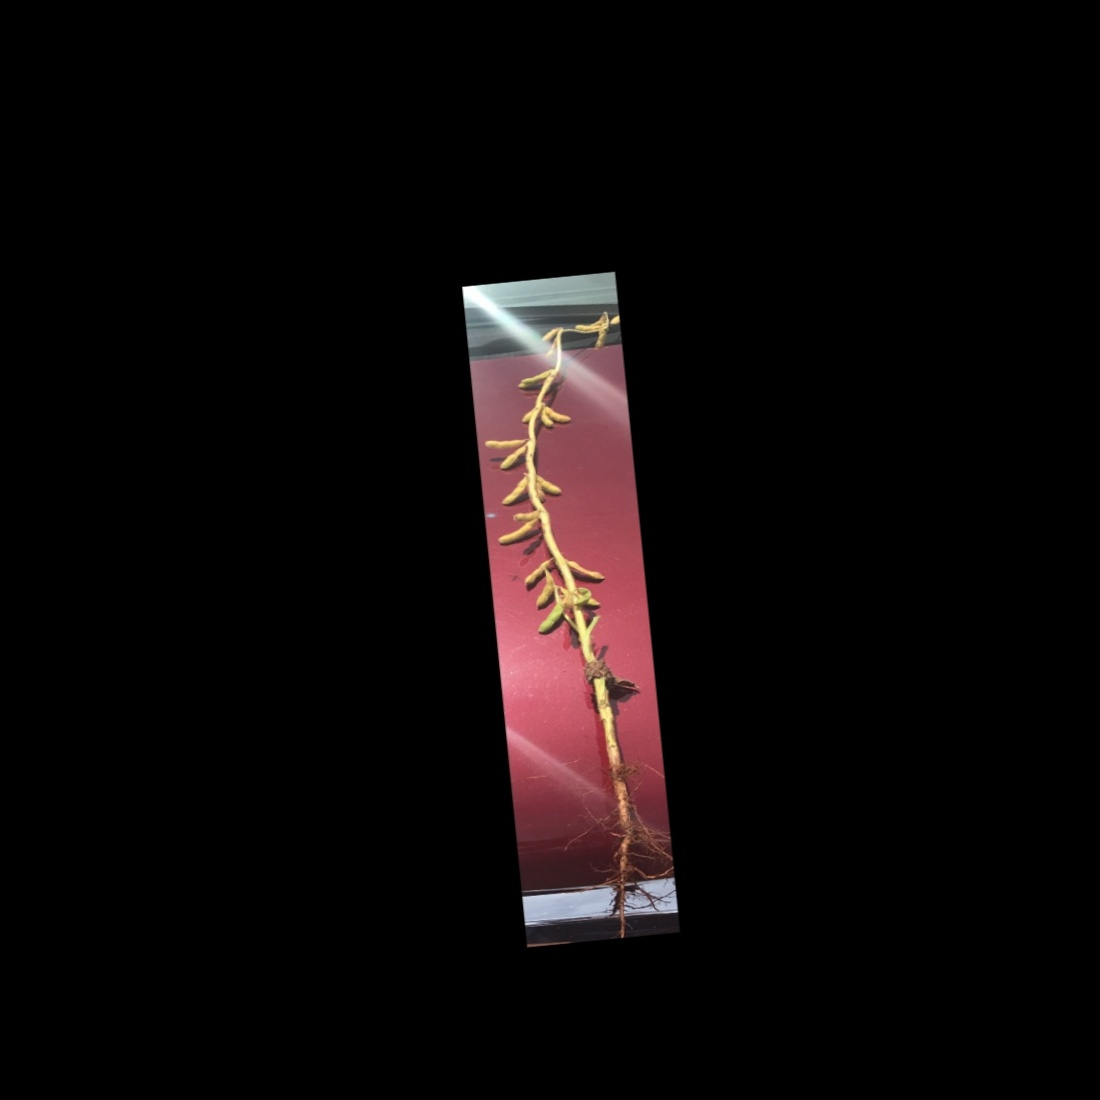pod: (492, 519, 543, 548), (533, 599, 568, 640), (491, 474, 531, 509), (529, 567, 558, 611), (564, 554, 605, 584), (496, 445, 529, 472), (479, 435, 530, 451), (589, 329, 610, 353), (534, 325, 560, 343), (532, 479, 547, 506), (541, 337, 559, 359)
soy: (468, 307, 666, 810)
